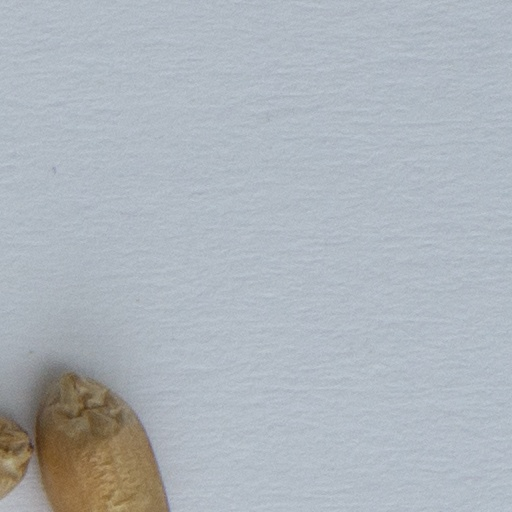Wheat-grain-poly: (34, 368, 171, 511), (0, 411, 34, 499)
